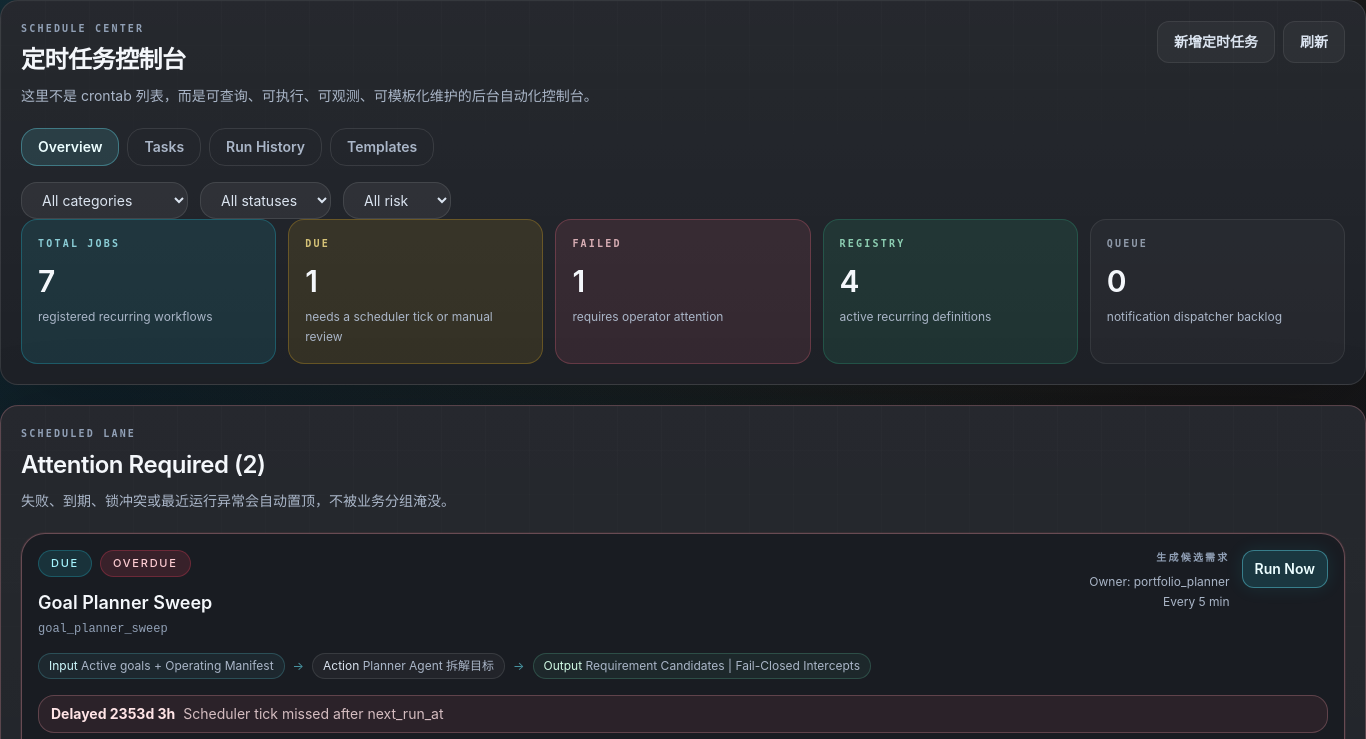
Test: SchedulesPage › exposes the Schedule Center tabs needed for E2E observability
Expected: the button "Overview" is shown, [21,128,120,166]
Click the button "Tasks": (164, 147) [128,128,201,166]
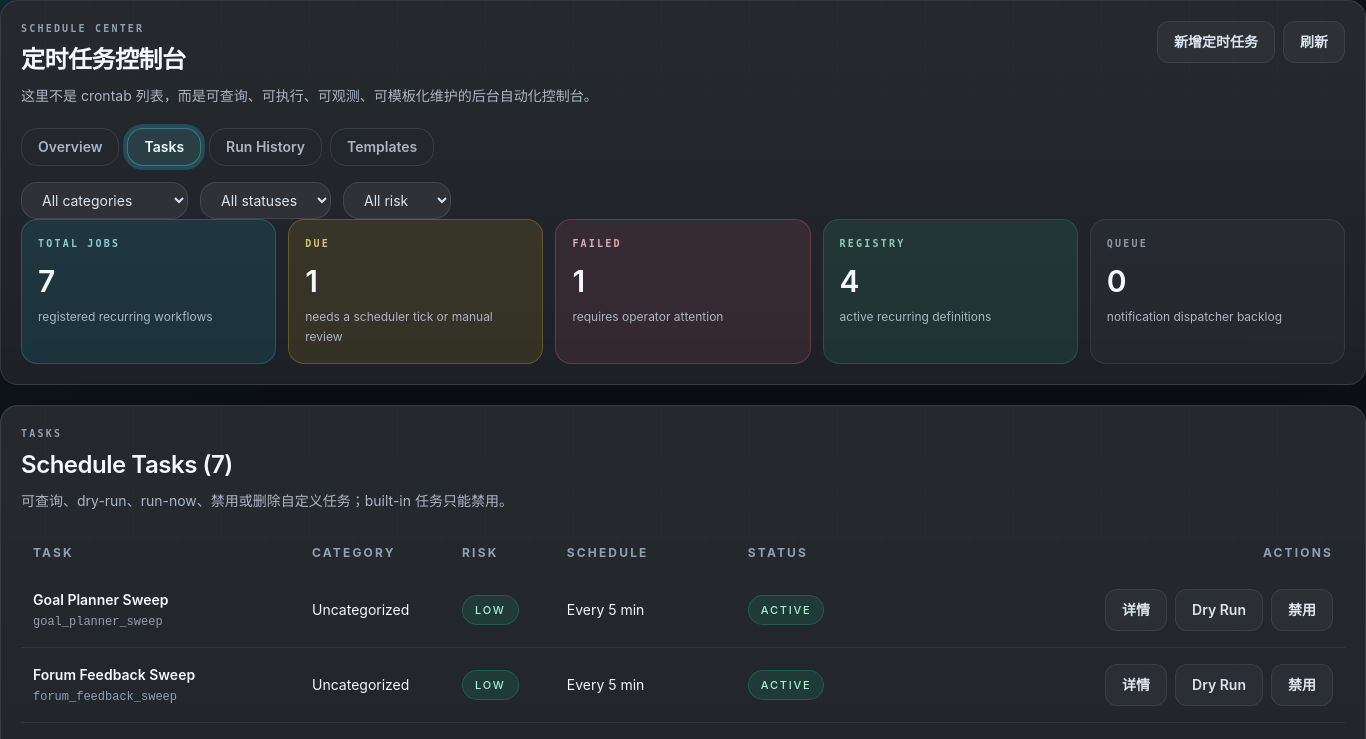
Now the heading "Schedule Tasks (7)" is shown, box [21,450,233,479]
Click the button "Run History": (266, 147) [209,128,322,166]
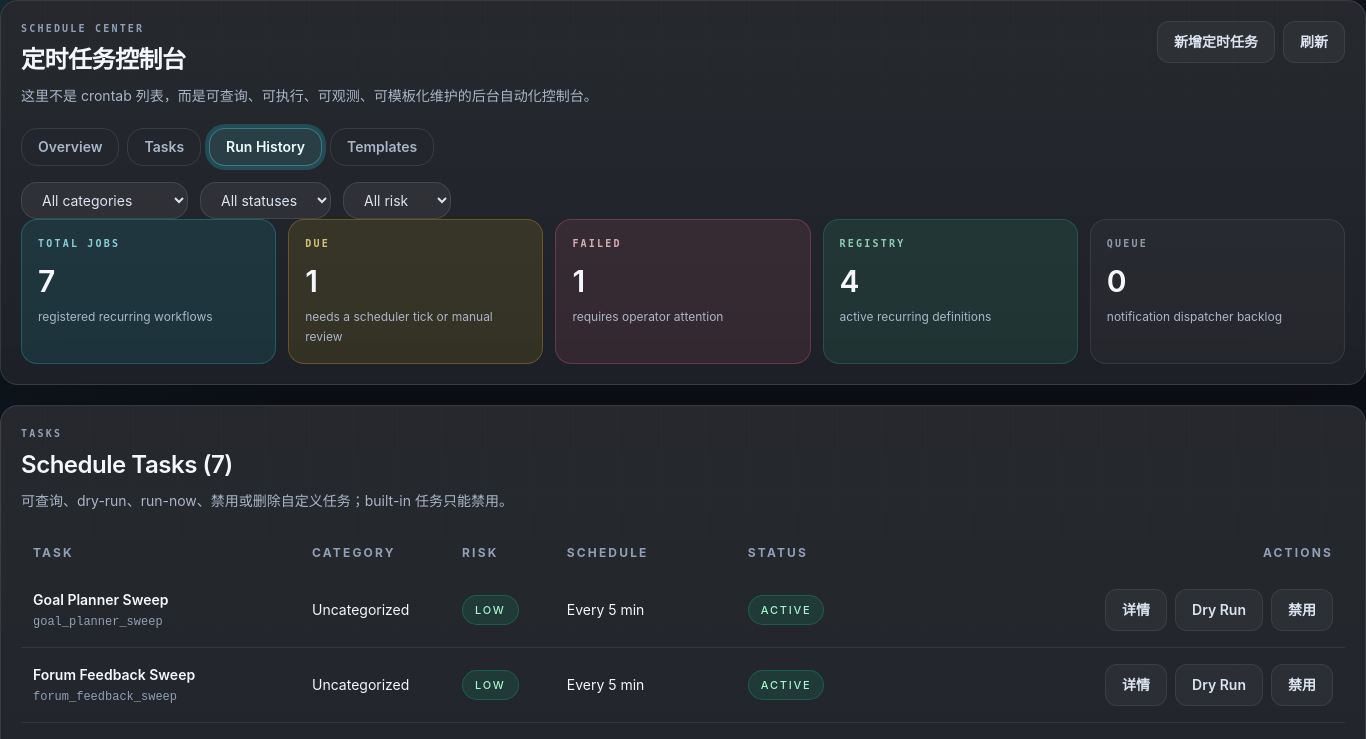
Click the button "Templates": (382, 147) [330,128,434,166]
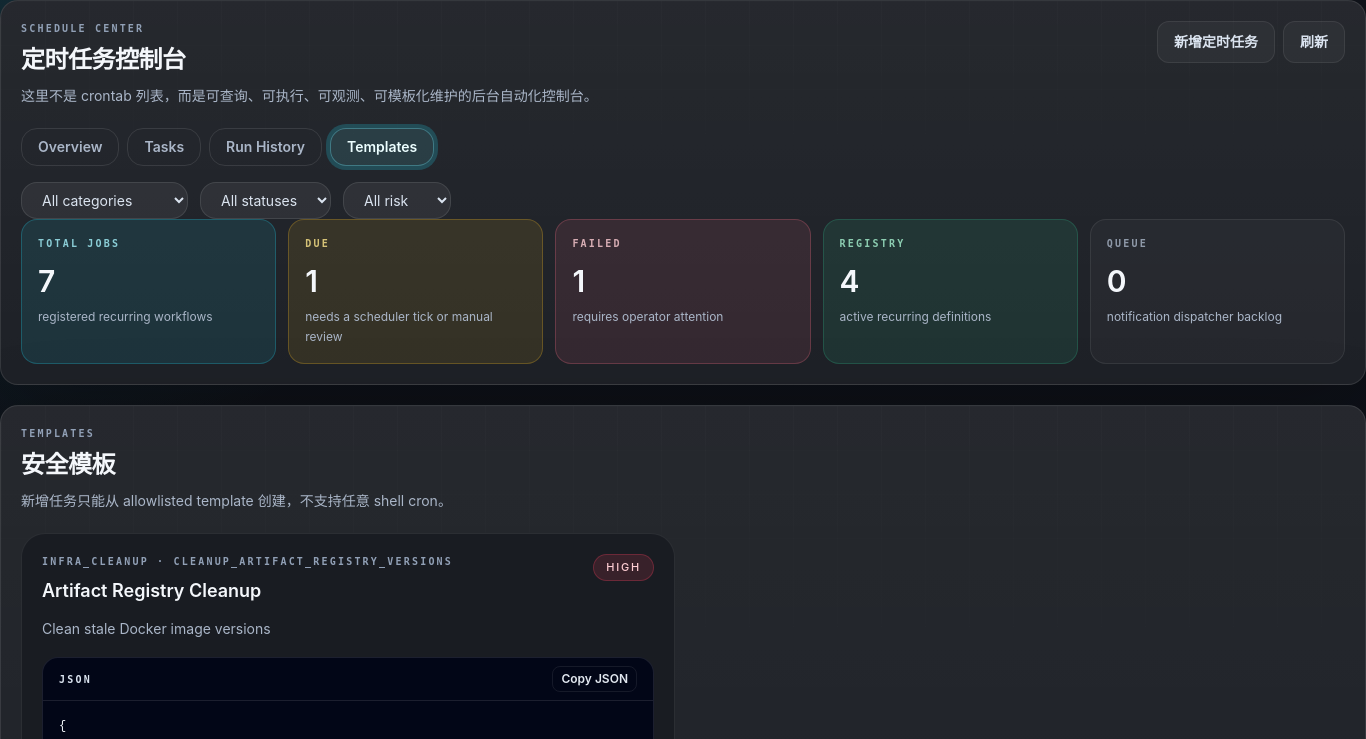
Now the heading "安全模板" is shown, box [21,450,115,479]
Now the heading "Artifact Registry Cleanup" is shown, box [42,580,261,601]
